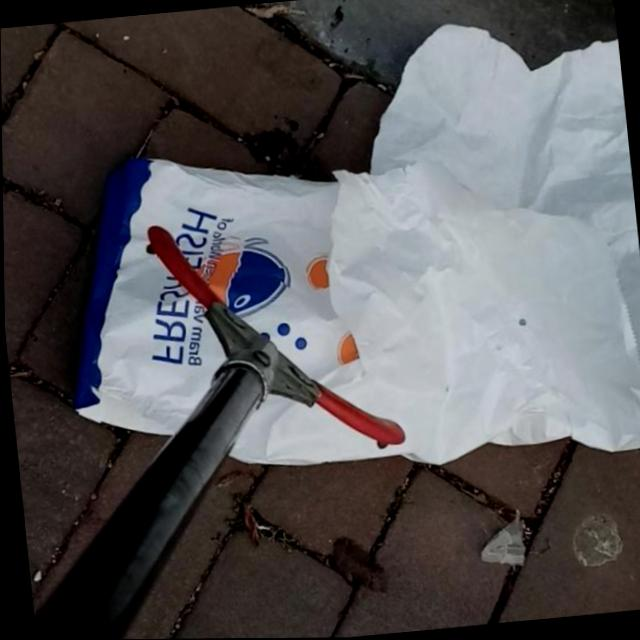Paper: (36, 8, 640, 504)
